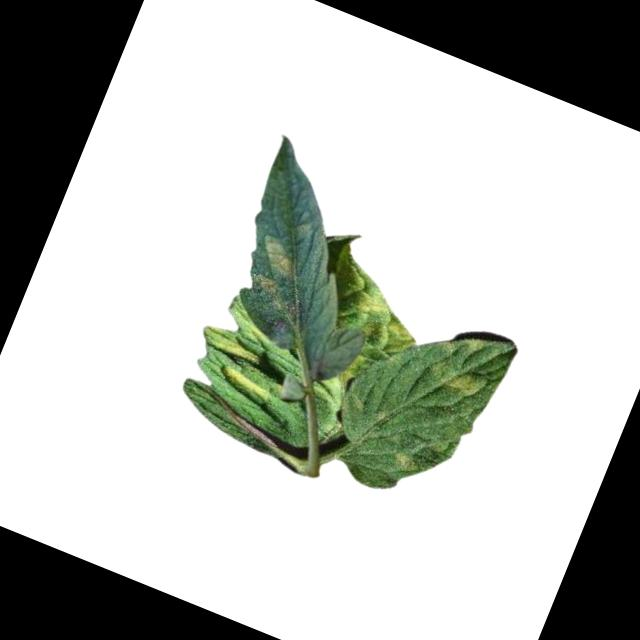Leaf_Mold: (309, 275, 434, 406), (195, 316, 269, 371), (420, 353, 490, 404), (213, 361, 277, 408), (253, 233, 303, 282), (388, 445, 422, 475)
